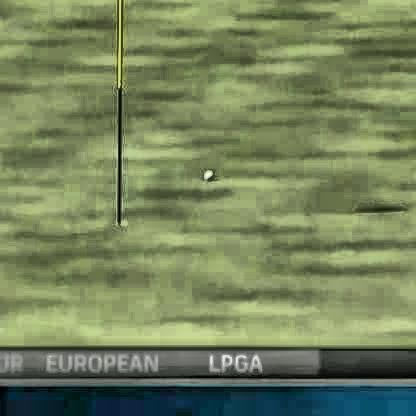golfball: (202, 166, 212, 177)
